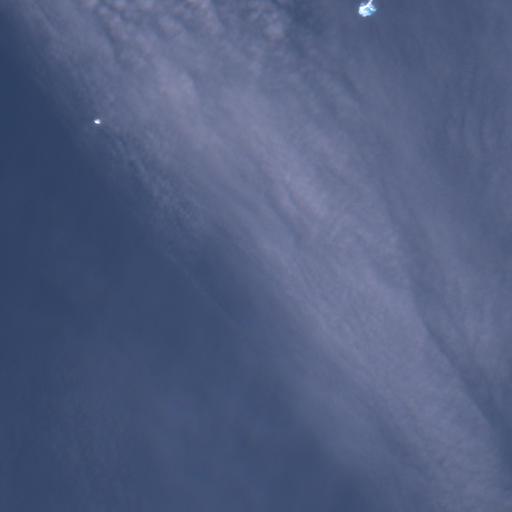Iceberg: (359, 0, 376, 16), (93, 119, 100, 123)
